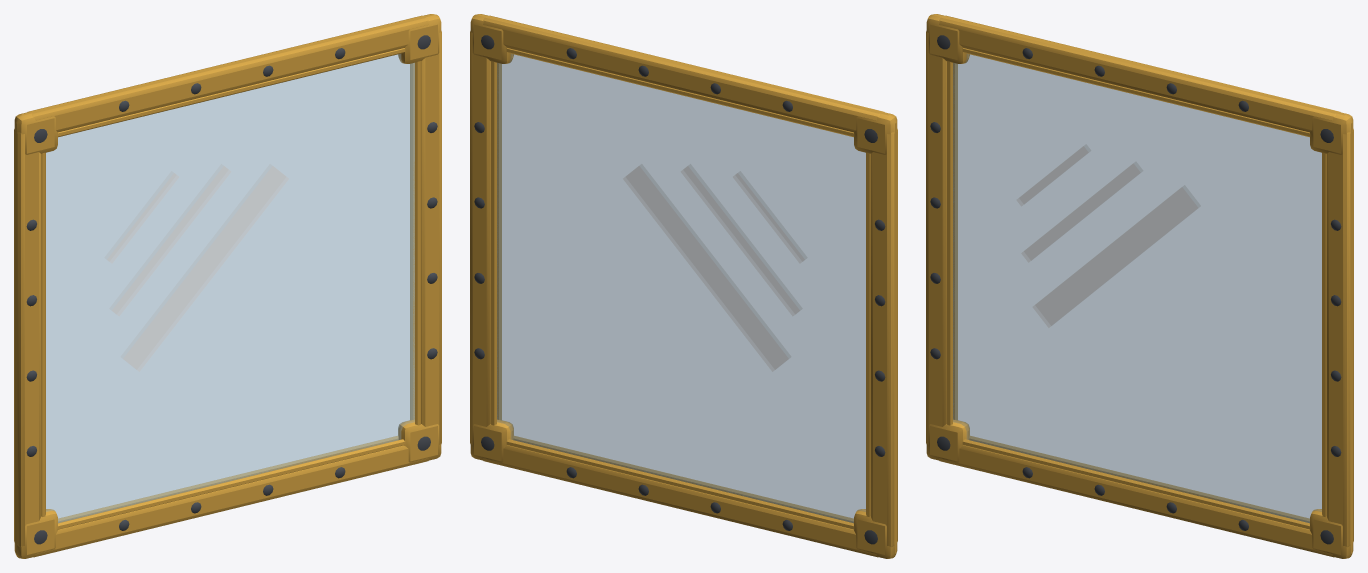
File: part_glass.glb
3 views of the same model, side by side, from view 1: azimuth 30°, elevation 25°; view 2: azimuth 150°, elevation 25°; view 3: azimuth 330°, elevation 25° (orthographic).
Visible parts, largest first — view 1: Glass; view 2: Glass; view 3: Glass.
Boxes of the visible parts, x1=… form: Glass: x1=14, y1=14, x2=441, y2=558; Glass: x1=470, y1=14, x2=897, y2=558; Glass: x1=926, y1=14, x2=1353, y2=558.
Size of the model in its own units: 2 by 2 by 0.08.
